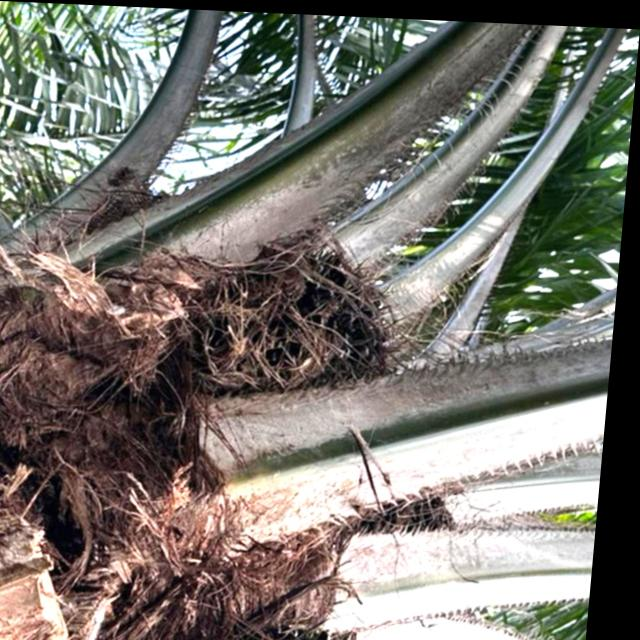unripe: (191, 212, 431, 430)
